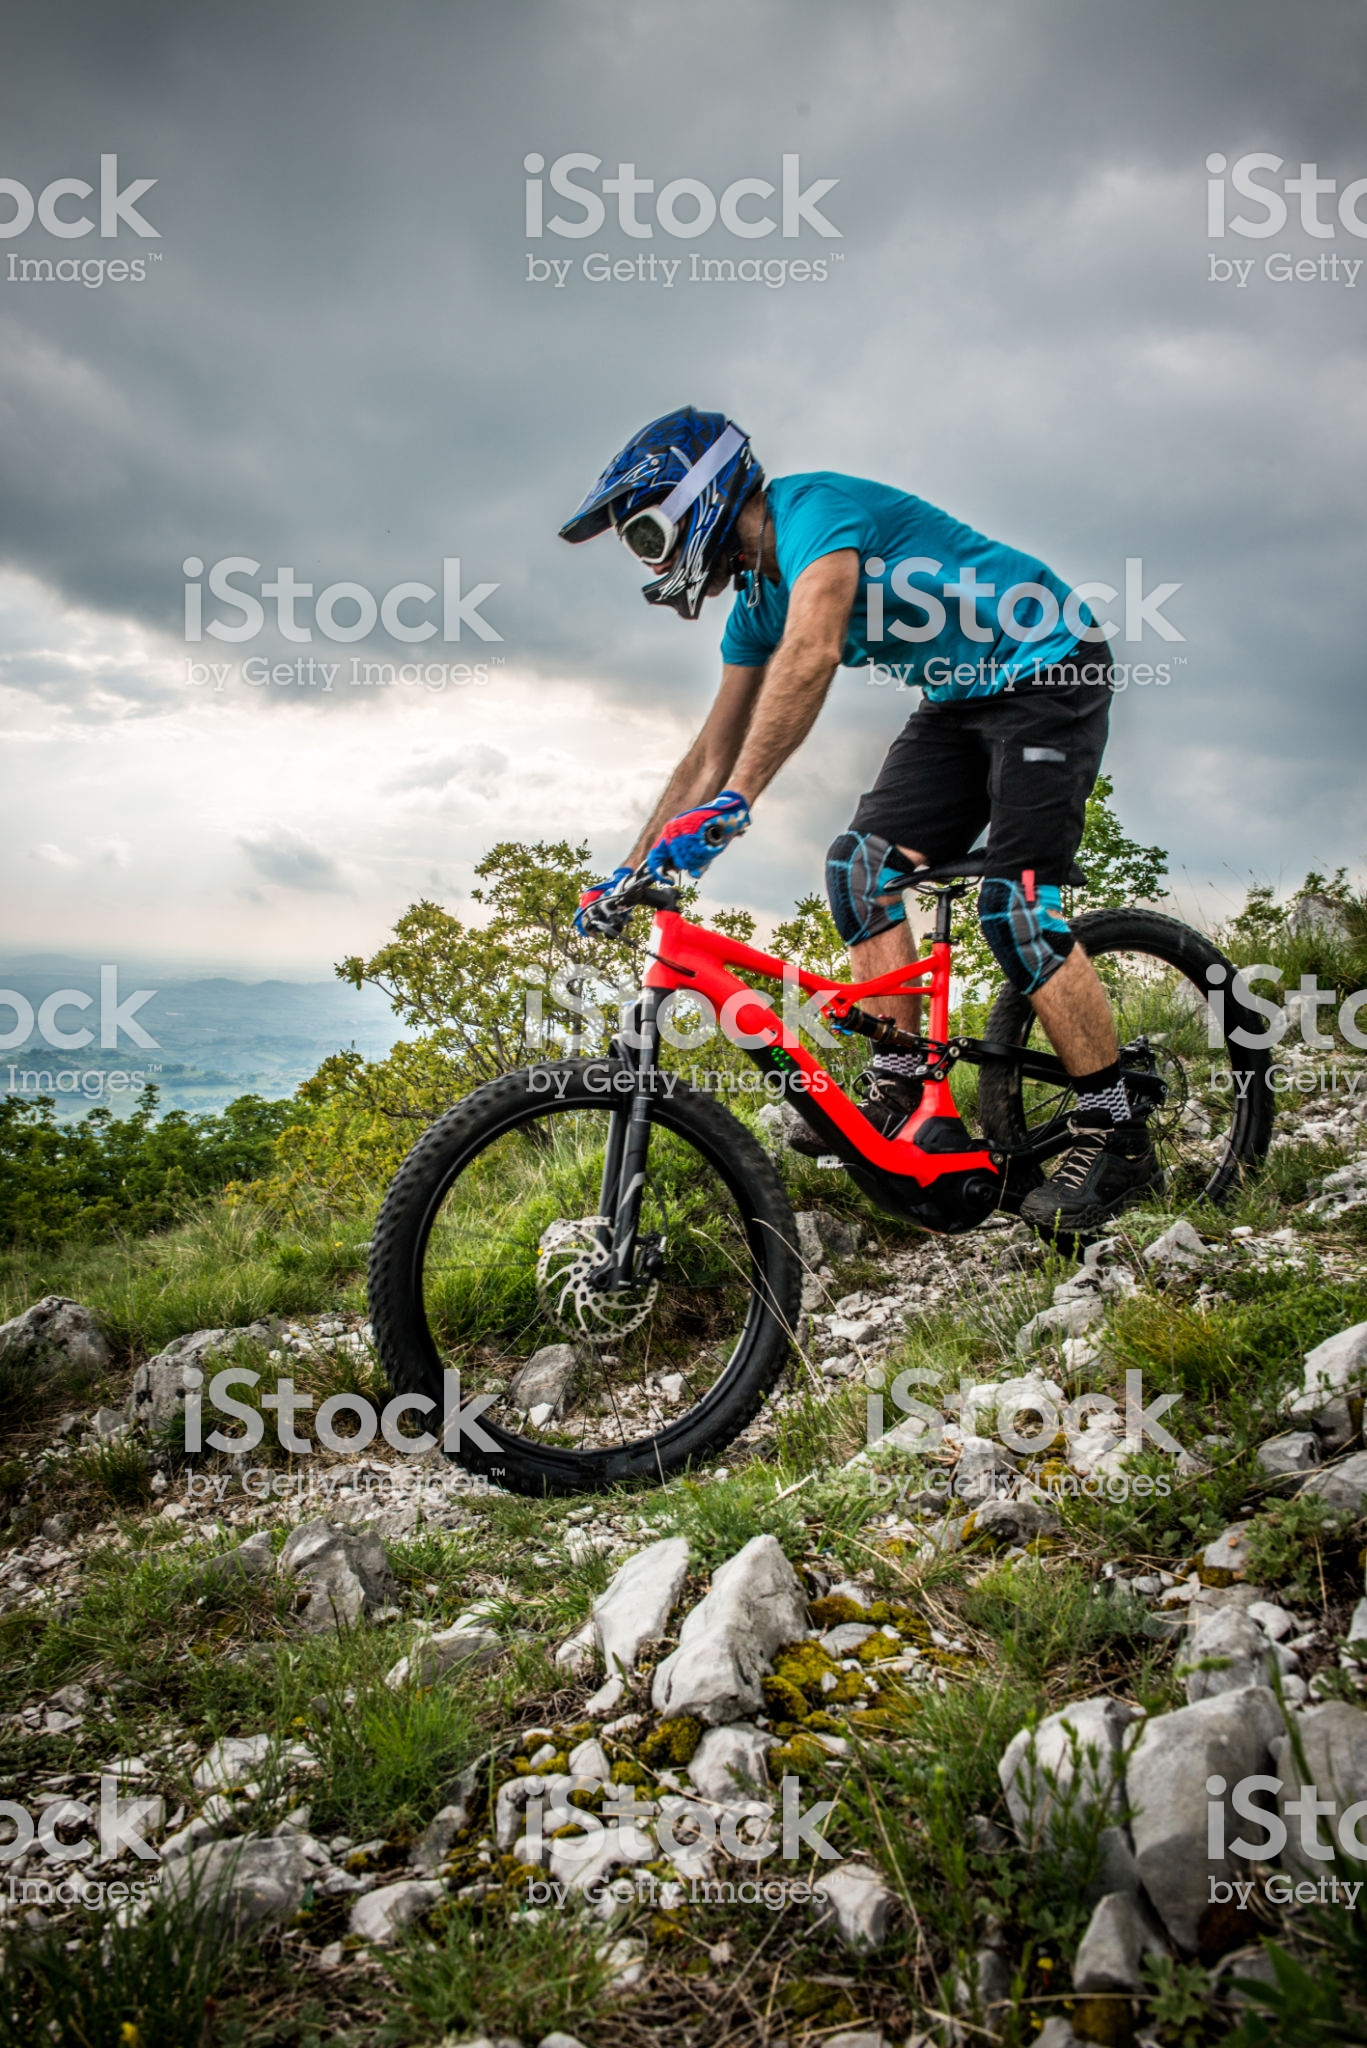helmet: (552, 387, 758, 595)
